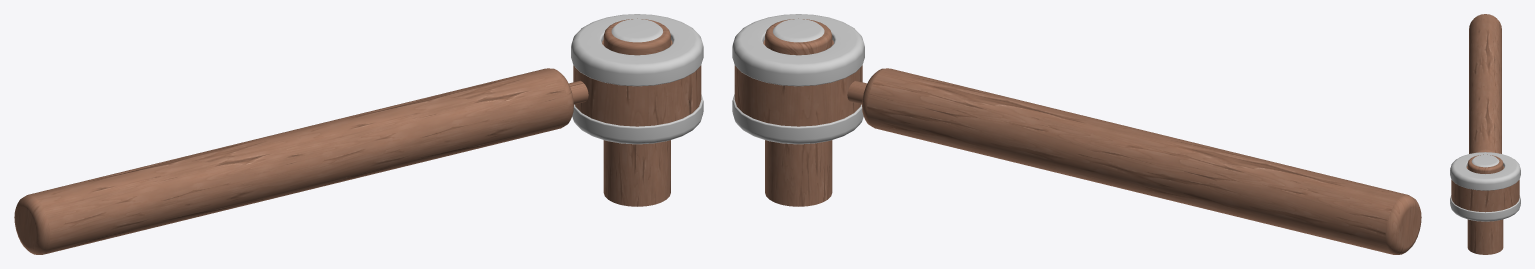
Rendered from SM_WoodStick_01.fbx.
3 views of the same model, side by side, from view 1: azimuth 30°, elevation 25°; view 2: azimuth 150°, elevation 25°; view 3: azimuth 270°, elevation 25° (orthographic). The views are drawn at different scales.
Visible parts, largest first — view 1: SM_WoodStick_01; view 2: SM_WoodStick_01; view 3: SM_WoodStick_01.
Part boxes in pixels (box(x1,y1,x2,y2)): SM_WoodStick_01: box(14, 14, 703, 254); SM_WoodStick_01: box(732, 14, 1421, 254); SM_WoodStick_01: box(1450, 14, 1520, 254).
Bounding box in the file's own units: 254 × 43.55 × 59.57.
3 materials, 2 textured.
